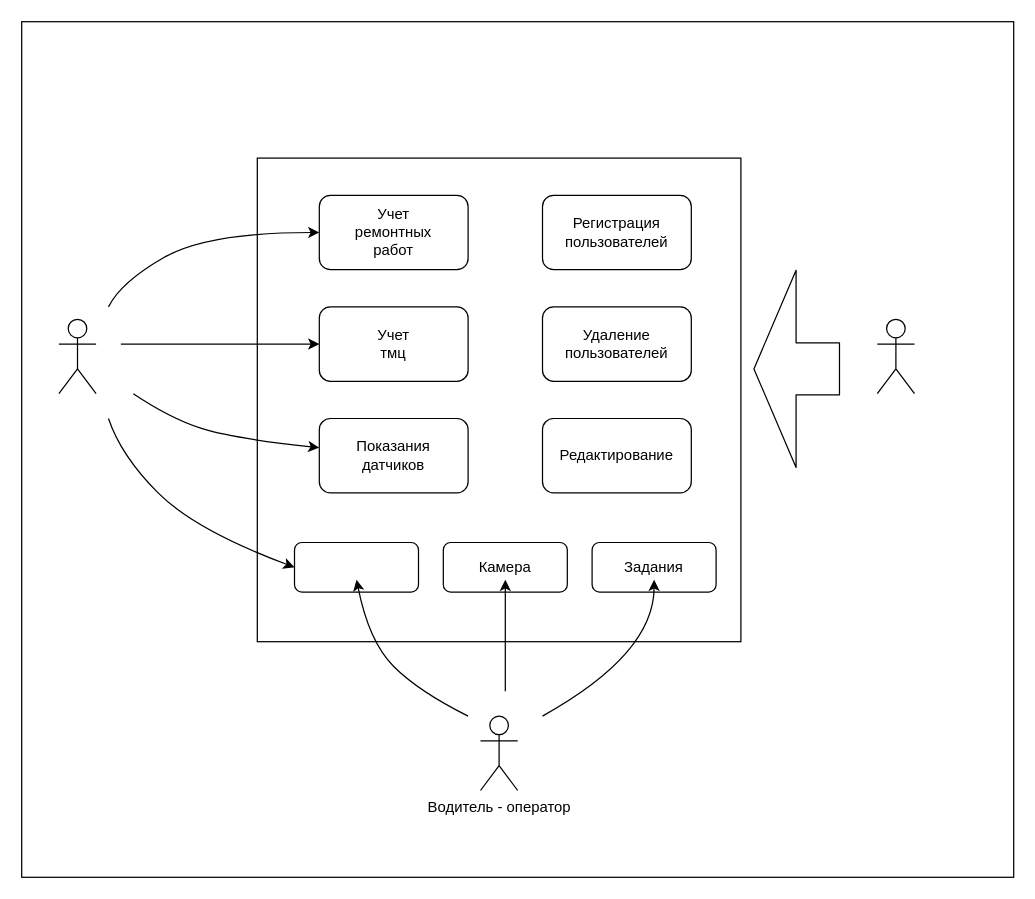
This 1035x899 diagram has some shape labels left out. The shapes that lost their labels are listed below. From the top down, each one's centre as x and y in pixels, then its label:
the point at 77,356: Мастер
the point at 895,356: Начальник коллоны
the point at 355,566: Чат
